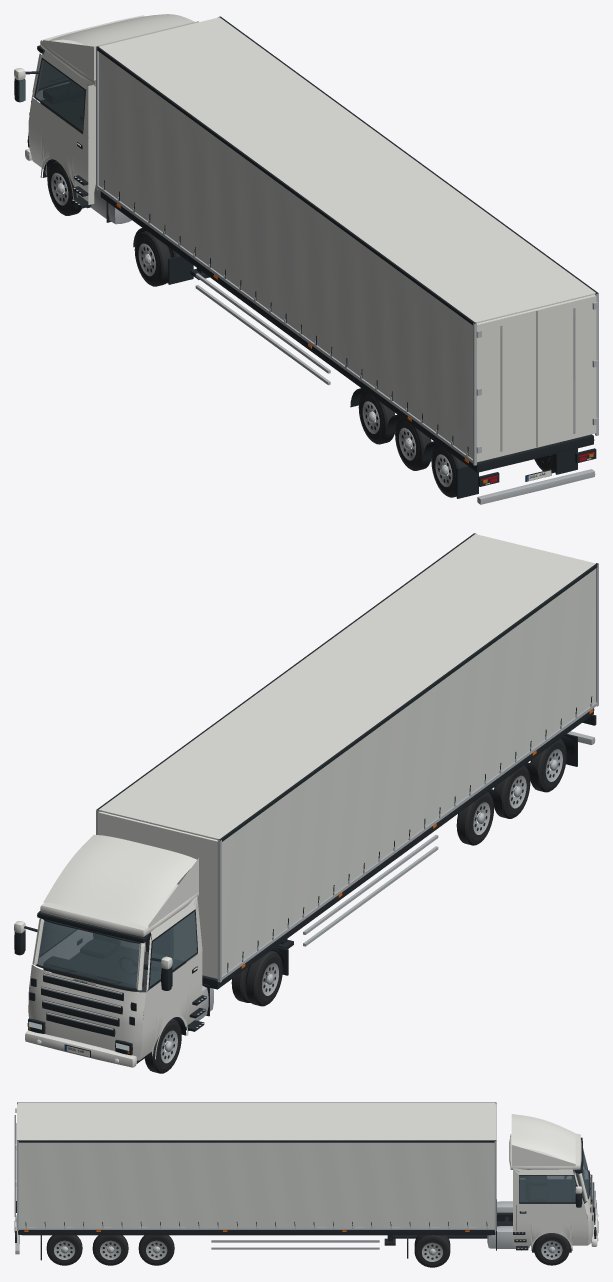
File: Entrega_02_Scania_Tauliner_LOD0.glb
3 renders of one model, top to bottom at view 1: azimuth 30°, elevation 25°; view 2: azimuth 150°, elevation 25°; view 3: azimuth 270°, elevation 25°, orthographic. The views are drawn at different scales.
Parts seen in each view (by area): view 1: Cargo, Canvas, TrailerFrame, Body, Glass, Wheel_RL, Chassis, Interior, Wheel_Trailer_2L, Wheel_Trailer_1L, Wheel_FL, Wheel_Trailer_3L; view 2: Cargo, Canvas, Body, TrailerFrame, Glass, Interior, Wheel_RL, Wheel_Trailer_1L, Wheel_Trailer_3L, Wheel_Trailer_2L, Wheel_FL, Chassis; view 3: Canvas, Cargo, Body, TrailerFrame, Glass, Interior, Chassis, Wheel_RR, Wheel_FR, Wheel_Trailer_2R, Wheel_Trailer_1R, Wheel_Trailer_3R.
Part boxes in pixels (left/top/right/bottom): Cargo: left=99, top=17, right=598, bottom=462; Canvas: left=99, top=52, right=472, bottom=458; TrailerFrame: left=96, top=16, right=598, bottom=504; Body: left=14, top=14, right=198, bottom=208; Glass: left=19, top=54, right=84, bottom=131; Wheel_RL: left=134, top=231, right=179, bottom=286; Chassis: left=42, top=159, right=193, bottom=284; Interior: left=40, top=81, right=88, bottom=137; Wheel_Trailer_2L: left=395, top=417, right=431, bottom=470; Wheel_Trailer_1L: left=358, top=391, right=395, bottom=444; Wheel_FL: left=47, top=161, right=81, bottom=215; Wheel_Trailer_3L: left=431, top=444, right=467, bottom=497; Cargo: left=98, top=534, right=595, bottom=978; Canvas: left=222, top=568, right=595, bottom=975; Body: left=14, top=834, right=206, bottom=1067; TrailerFrame: left=96, top=533, right=598, bottom=989; Glass: left=25, top=911, right=197, bottom=988; Interior: left=43, top=928, right=186, bottom=992; Wheel_RL: left=231, top=950, right=282, bottom=1006; Wheel_Trailer_1L: left=456, top=792, right=493, bottom=845; Wheel_Trailer_3L: left=530, top=738, right=566, bottom=792; Wheel_Trailer_2L: left=494, top=765, right=530, bottom=818; Wheel_FL: left=144, top=1018, right=181, bottom=1073; Chassis: left=136, top=946, right=288, bottom=1063; Canvas: left=18, top=1142, right=494, bottom=1227; Cargo: left=14, top=1102, right=496, bottom=1222; Body: left=509, top=1114, right=598, bottom=1250; TrailerFrame: left=15, top=1102, right=496, bottom=1260; Glass: left=519, top=1151, right=589, bottom=1202; Interior: left=519, top=1170, right=587, bottom=1203; Chassis: left=393, top=1199, right=587, bottom=1258; Wheel_RR: left=414, top=1235, right=450, bottom=1267; Wheel_FR: left=534, top=1233, right=569, bottom=1265; Wheel_Trailer_2R: left=92, top=1235, right=128, bottom=1265; Wheel_Trailer_1R: left=138, top=1235, right=174, bottom=1265; Wheel_Trailer_3R: left=46, top=1235, right=82, bottom=1265.
Bounding box in the file's own units: 3.24 × 4.02 × 16.65.
17 materials, 2 textured.
